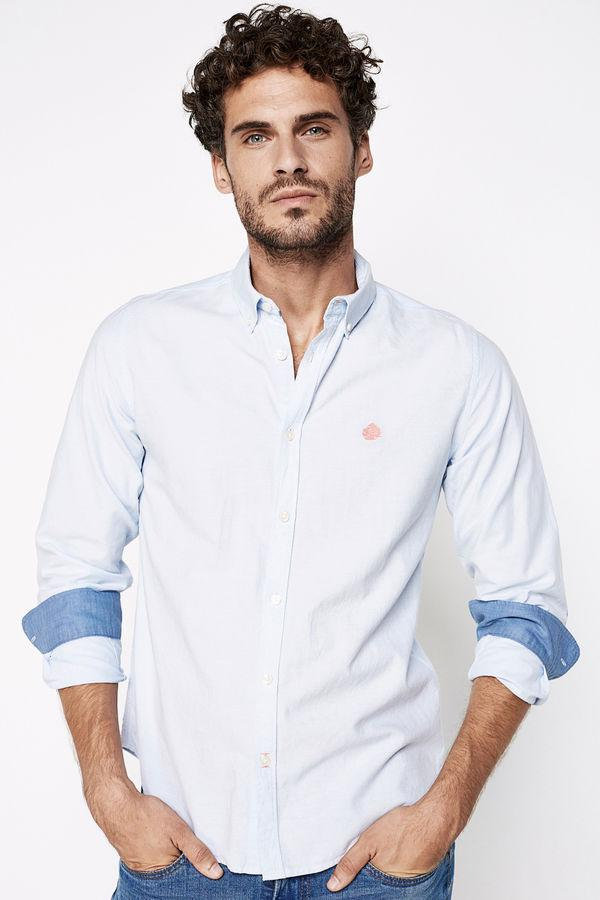teeshirt: (55, 249, 589, 900)
